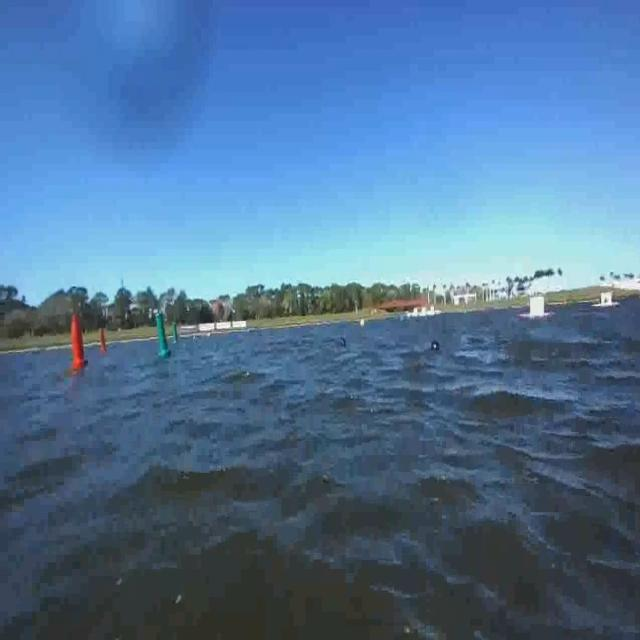black-buoy: (432, 342, 441, 353), (340, 335, 347, 347)
green-column-buoy: (155, 312, 173, 358), (172, 319, 179, 342)
red-column-buoy: (68, 314, 88, 370), (96, 328, 106, 356)
yellow-buoy: (359, 318, 366, 329)
